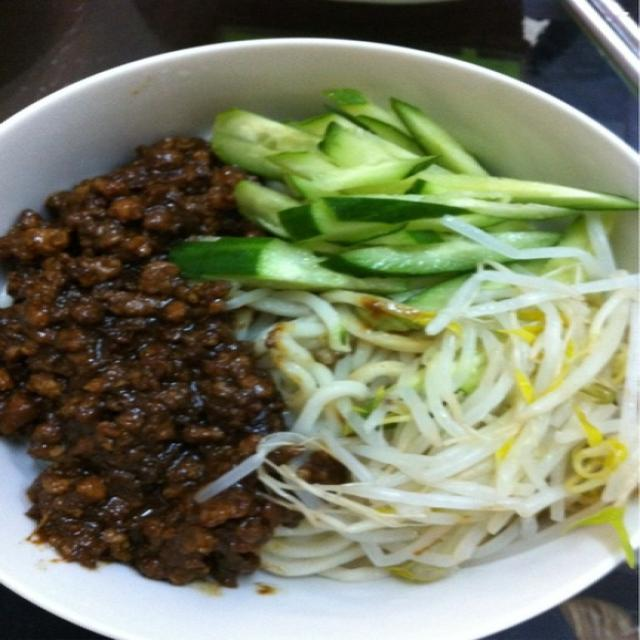面条主食: (3, 23, 636, 626)
